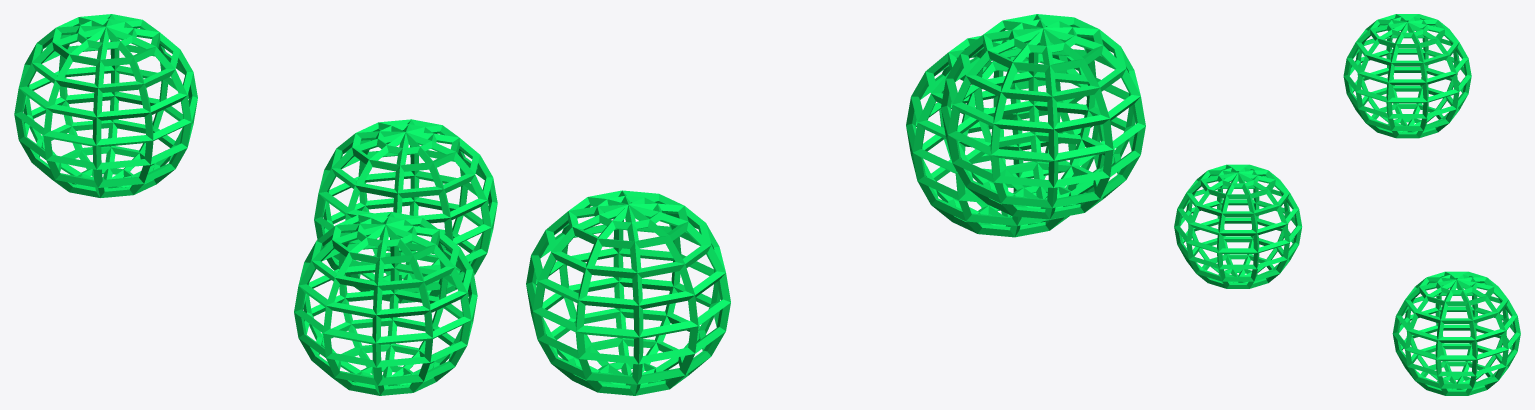
Rendered from mimesis1.gltf.
The picture shows the model from 3 angles, left to right: view 1: azimuth 30°, elevation 25°; view 2: azimuth 150°, elevation 25°; view 3: azimuth 270°, elevation 25°; orthographic projection. The views are drawn at different scales.
Parts seen in each view (by area): view 1: Sphere.001; view 2: Sphere.001; view 3: Sphere.001.
Part boxes in pixels (x1,y1,x2,y2): Sphere.001: [14, 14, 497, 395]; Sphere.001: [526, 14, 1145, 395]; Sphere.001: [1174, 14, 1520, 395].
Bounding box in the file's own units: 6.33 × 4.65 × 5.68.
